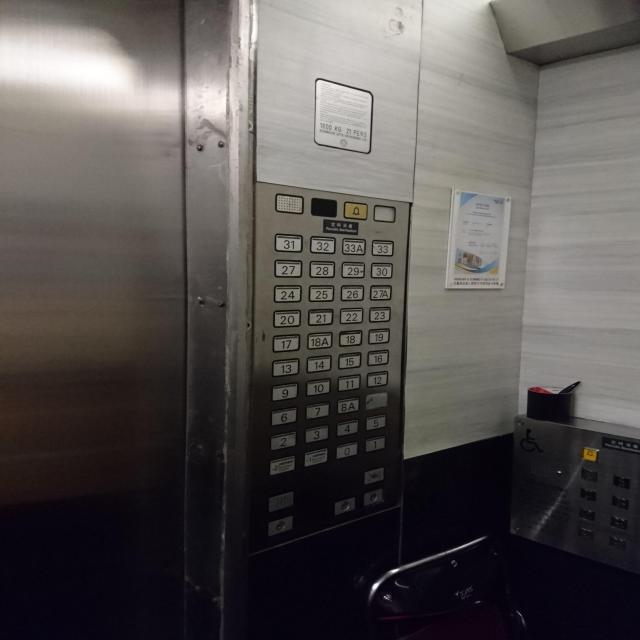-1: (302, 446, 330, 468)
-2: (268, 454, 296, 477)
0: (334, 440, 359, 460)
1: (363, 434, 387, 453)
10: (305, 377, 331, 397)
11: (336, 373, 361, 392)
12: (366, 370, 389, 388)
13: (271, 357, 299, 378)
14: (306, 354, 332, 373)
15: (337, 351, 362, 369)
16: (366, 349, 389, 366)
17: (272, 333, 300, 352)
18: (338, 329, 362, 347)
18A: (306, 331, 333, 350)
19: (368, 327, 390, 345)
2: (269, 430, 297, 451)
20: (272, 308, 301, 328)
21: (306, 308, 334, 326)
22: (339, 307, 364, 324)
23: (368, 306, 391, 323)
24: (273, 284, 302, 303)
25: (308, 284, 334, 302)
26: (340, 284, 364, 302)
27: (273, 258, 303, 278), (576, 525, 593, 541)
27A: (369, 284, 392, 301)
28: (309, 260, 335, 278)
29: (341, 261, 365, 278)
3: (303, 423, 330, 444)
30: (370, 262, 393, 278)
31: (274, 233, 303, 253)
32: (309, 235, 336, 254)
33: (371, 239, 394, 256)
33A: (342, 237, 366, 256)
4: (335, 418, 359, 437), (612, 474, 631, 490)
5: (365, 413, 387, 431)
6: (270, 406, 298, 426)
7: (305, 400, 330, 420)
8A: (336, 396, 360, 414)
9: (270, 381, 299, 402)
alarm: (343, 201, 368, 220), (581, 447, 599, 462)
blur: (364, 392, 388, 409), (609, 513, 629, 531), (608, 535, 627, 551), (611, 494, 629, 510), (580, 467, 598, 482), (579, 487, 597, 502), (578, 507, 596, 522)
close: (362, 466, 384, 485)
empty: (310, 196, 338, 218), (372, 204, 397, 223)
keyhole: (266, 514, 294, 537), (362, 487, 385, 507), (333, 496, 356, 516)
open: (267, 490, 294, 513)
speaker: (274, 192, 304, 215)
